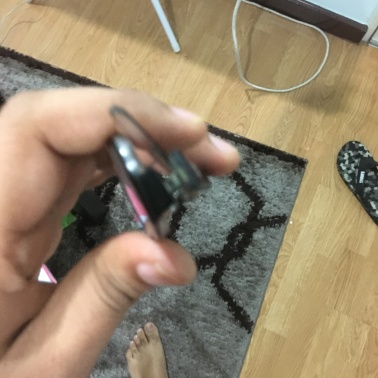glasses: (89, 109, 203, 238)
